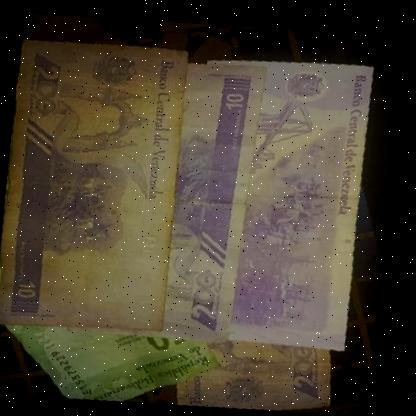fifty-front-vef: (0, 299, 234, 416)
ten-back-vef: (0, 15, 217, 345), (129, 52, 282, 342), (164, 312, 347, 416)
two_hundred-back-vef: (156, 37, 401, 354)
